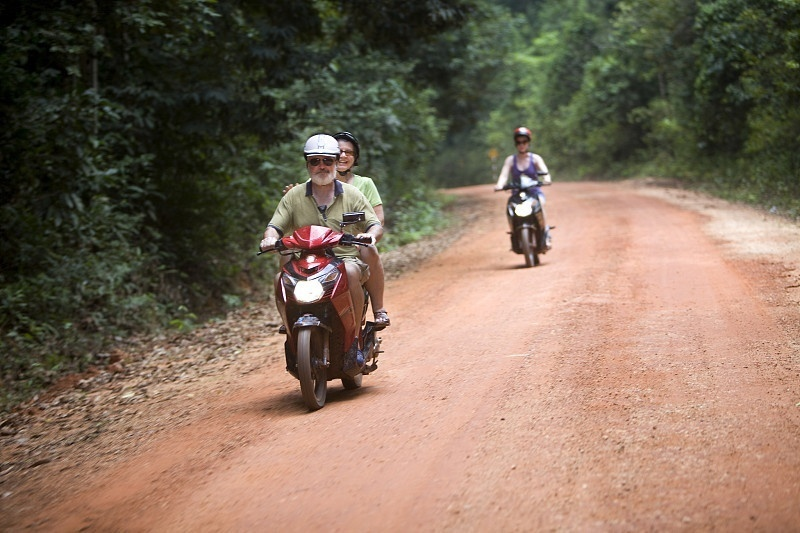non-vehicle: (263, 216, 384, 413), (497, 176, 553, 263)
